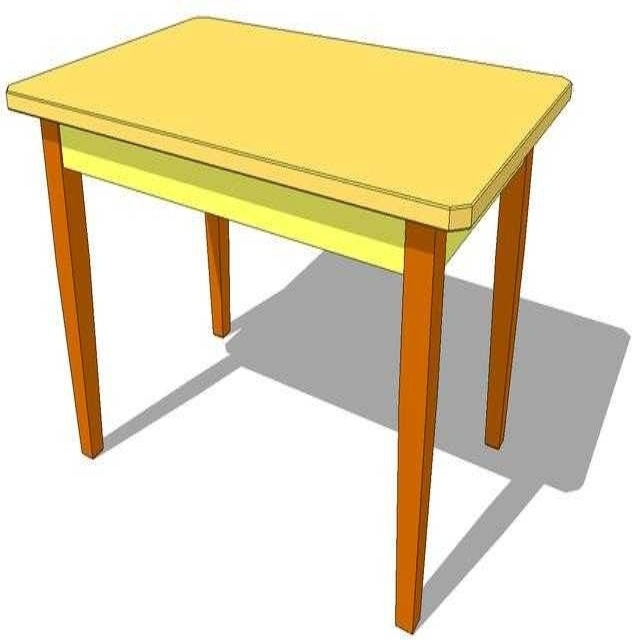obstacle: (7, 17, 571, 631)
